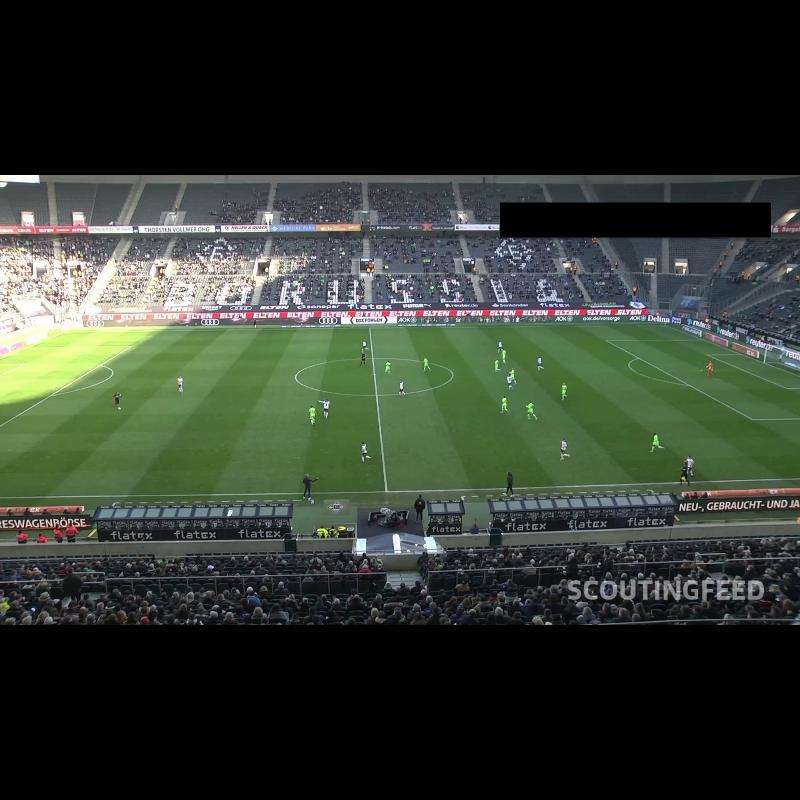cross_recipient_zone: (606, 339, 800, 420), (0, 346, 131, 426)
crossing_player_zone: (669, 418, 800, 480), (0, 431, 76, 498), (27, 330, 207, 347), (531, 325, 702, 341)
pitch: (0, 326, 800, 498)
